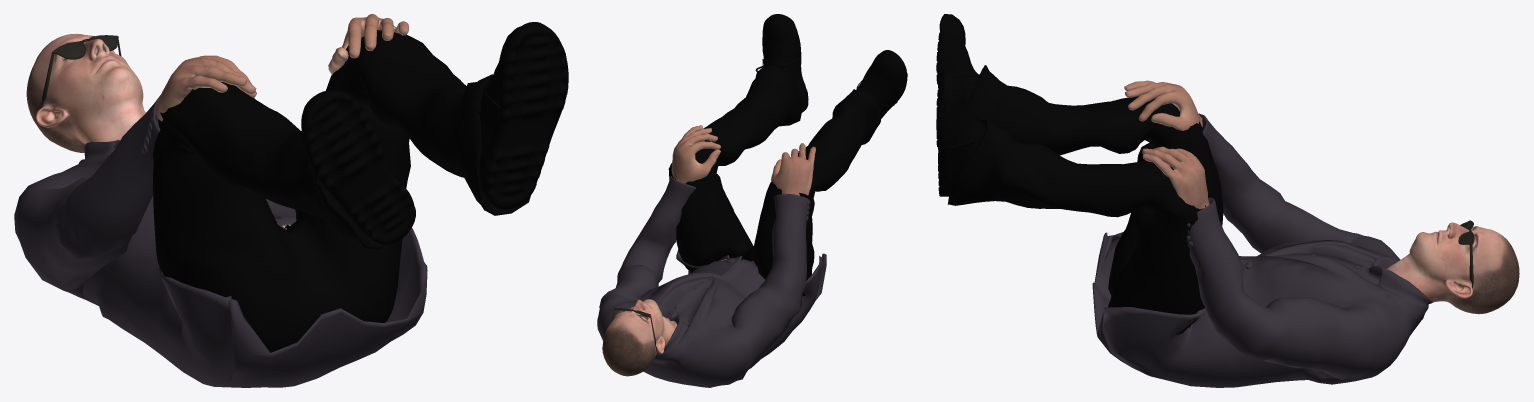
The model's file is man.glb.
3 views of the same model, side by side, from view 1: azimuth 30°, elevation 25°; view 2: azimuth 150°, elevation 25°; view 3: azimuth 270°, elevation 25° (orthographic). The views are drawn at different scales.
Parts seen in each view (by area): view 1: Body; view 2: Body; view 3: Body.
Part boxes in pixels (bbox=[...]): Body: bbox=[14, 14, 568, 387]; Body: bbox=[597, 14, 907, 387]; Body: bbox=[936, 14, 1519, 387].
Bounding box in the file's own units: 63.41 × 85 × 133.
5 materials, 5 textured.
